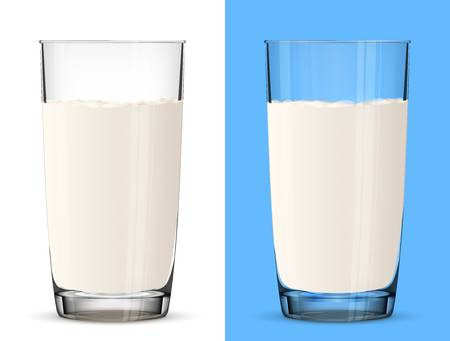glass of milk: (263, 40, 410, 320), (40, 41, 183, 320)
